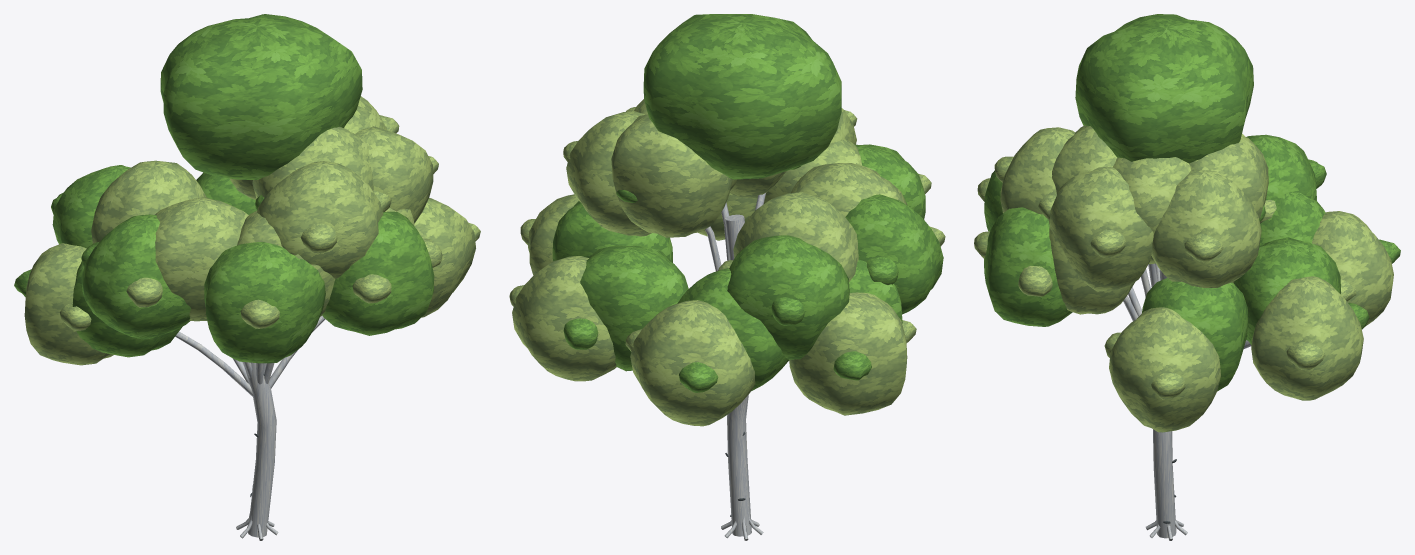
File: tree_4.glb
The picture shows the model from 3 angles, left to right: view 1: azimuth 30°, elevation 25°; view 2: azimuth 150°, elevation 25°; view 3: azimuth 270°, elevation 25°; orthographic projection.
Parts seen in each view (by area): view 1: tree_4; view 2: tree_4; view 3: tree_4.
Boxes of the visible parts, x1,y1,x2,y2 form: tree_4: (14,14,480,540); tree_4: (509,14,945,540); tree_4: (974,14,1400,540).
Bounding box in the file's own units: 5.49 × 6.38 × 4.88.
1 material, 1 textured.
